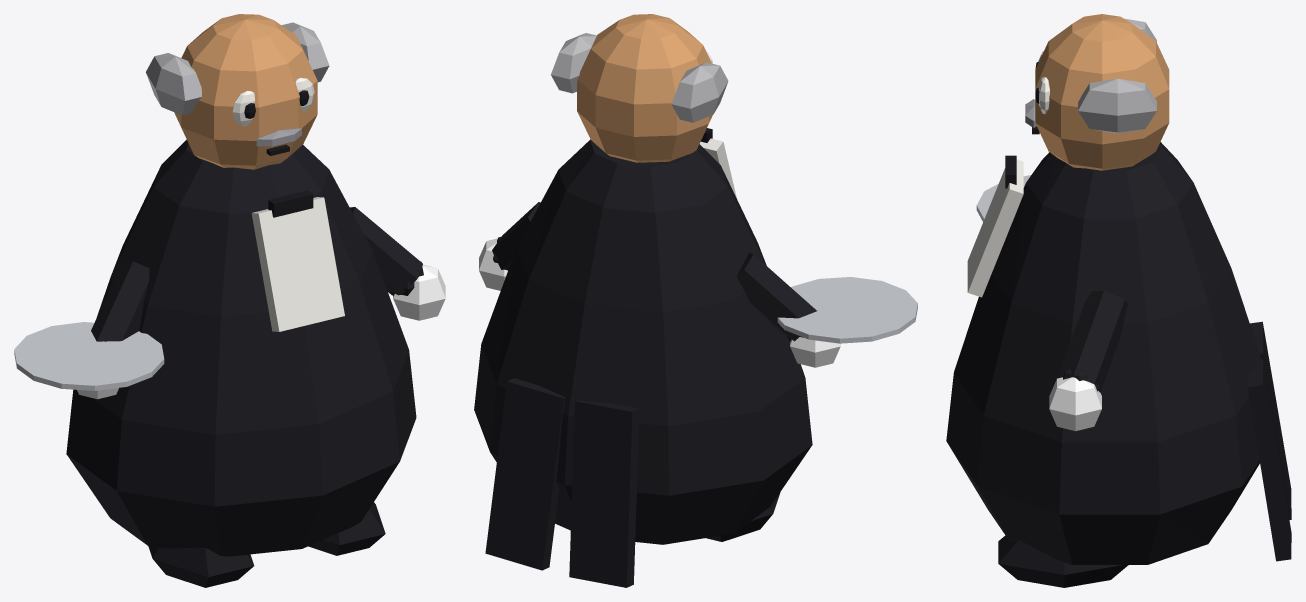
File: npc_mayordomo.glb
3 views of the same model, side by side, from view 1: azimuth 30°, elevation 25°; view 2: azimuth 150°, elevation 25°; view 3: azimuth 270°, elevation 25° (orthographic). The views are drawn at different scales.
Visible parts, largest first — view 1: body_butler_tails, head_skin_arena, body_butler_shirt, props_silver, arms_butler_tails, legs_black, head_hair_gray (×2), arms_glove_white, body_black, face_white, face_mustache_gray; view 2: body_butler_tails, head_skin_arena, props_silver, arms_butler_tails, head_hair_gray (×2), arms_glove_white (×2), legs_black, body_butler_shirt; view 3: body_butler_tails, head_skin_arena, arms_butler_tails, head_hair_gray, body_butler_shirt, legs_black, arms_glove_white.
Part boxes in pixels (x1,y1,x2,y2): body_butler_tails: (66,139,416,556); head_skin_arena: (174,14,317,169); body_butler_shirt: (251,197,344,331); props_silver: (14,322,164,390); arms_butler_tails: (91,207,423,341); legs_black: (148,502,385,587); head_hair_gray (×2): (146,22,329,115); arms_glove_white: (393,265,445,320); body_black: (268,190,313,217); face_white: (232,78,314,126); face_mustache_gray: (256,128,301,146); body_butler_tails: (474,139,812,587); head_skin_arena: (577,14,712,162); props_silver: (777,277,917,343); arms_butler_tails: (492,202,816,341); head_hair_gray (×2): (551,33,728,122); arms_glove_white (×2): (479,238,840,367); legs_black: (706,492,780,541); body_butler_shirt: (699,138,736,198); body_butler_tails: (946,142,1291,564); head_skin_arena: (1035,14,1169,170); arms_butler_tails: (1058,291,1127,392); head_hair_gray: (1078,78,1156,133); body_butler_shirt: (967,159,1023,297); legs_black: (998,535,1128,587); arms_glove_white: (1049,377,1101,431).
Bounding box in the file's own units: 1.31 × 1.53 × 0.9078.
